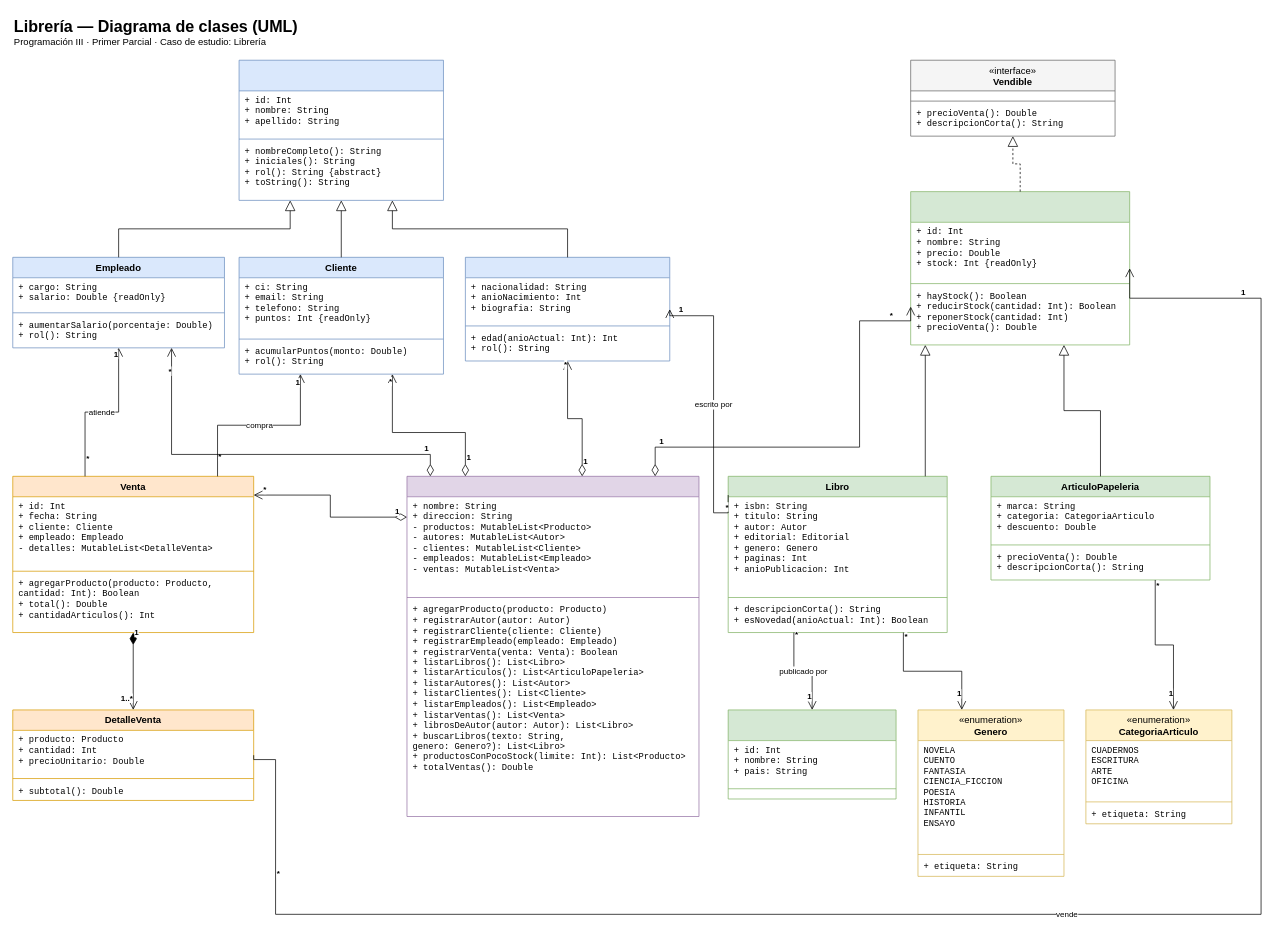
The diagram is 1283 pixels wide and 936 high, and some of its shapes have lost their labels. The shapes that lost their labels are listed below. From the top down, each one's box as (x1, y1, x2, y2) in pixels, then its label:
(238, 59, 443, 200): «abstract» Persona
(910, 191, 1130, 345): «abstract» Producto
(465, 257, 670, 361): Autor
(406, 476, 699, 817): Libreria
(727, 709, 896, 799): «data class» Editorial
